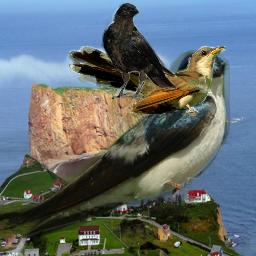Crow: (101, 2, 177, 99)
Cuckoo: (69, 46, 226, 116)
Swallow: (11, 50, 230, 243)
